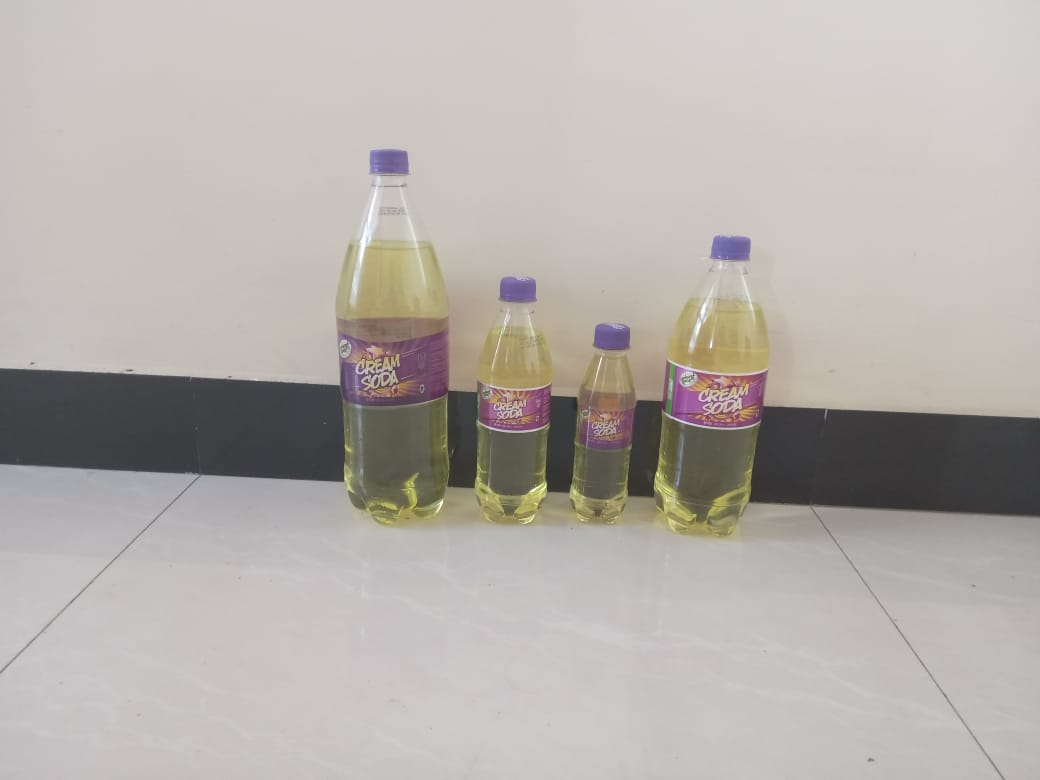L: (331, 146, 458, 525)
M: (652, 239, 769, 536)
S: (475, 274, 554, 525)
Xs: (568, 326, 638, 525)
